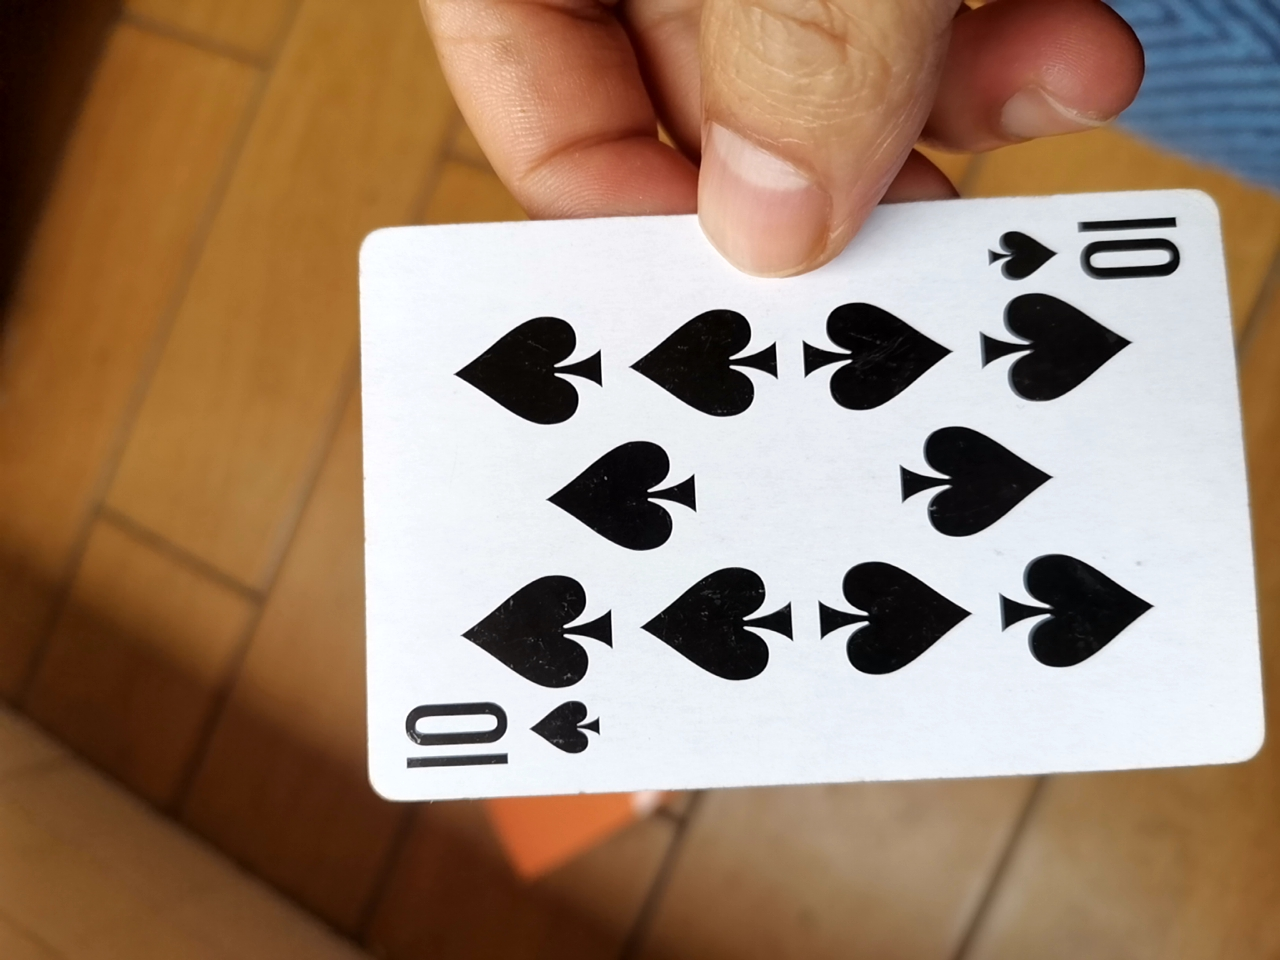ht 10: (319, 183, 1270, 802)
